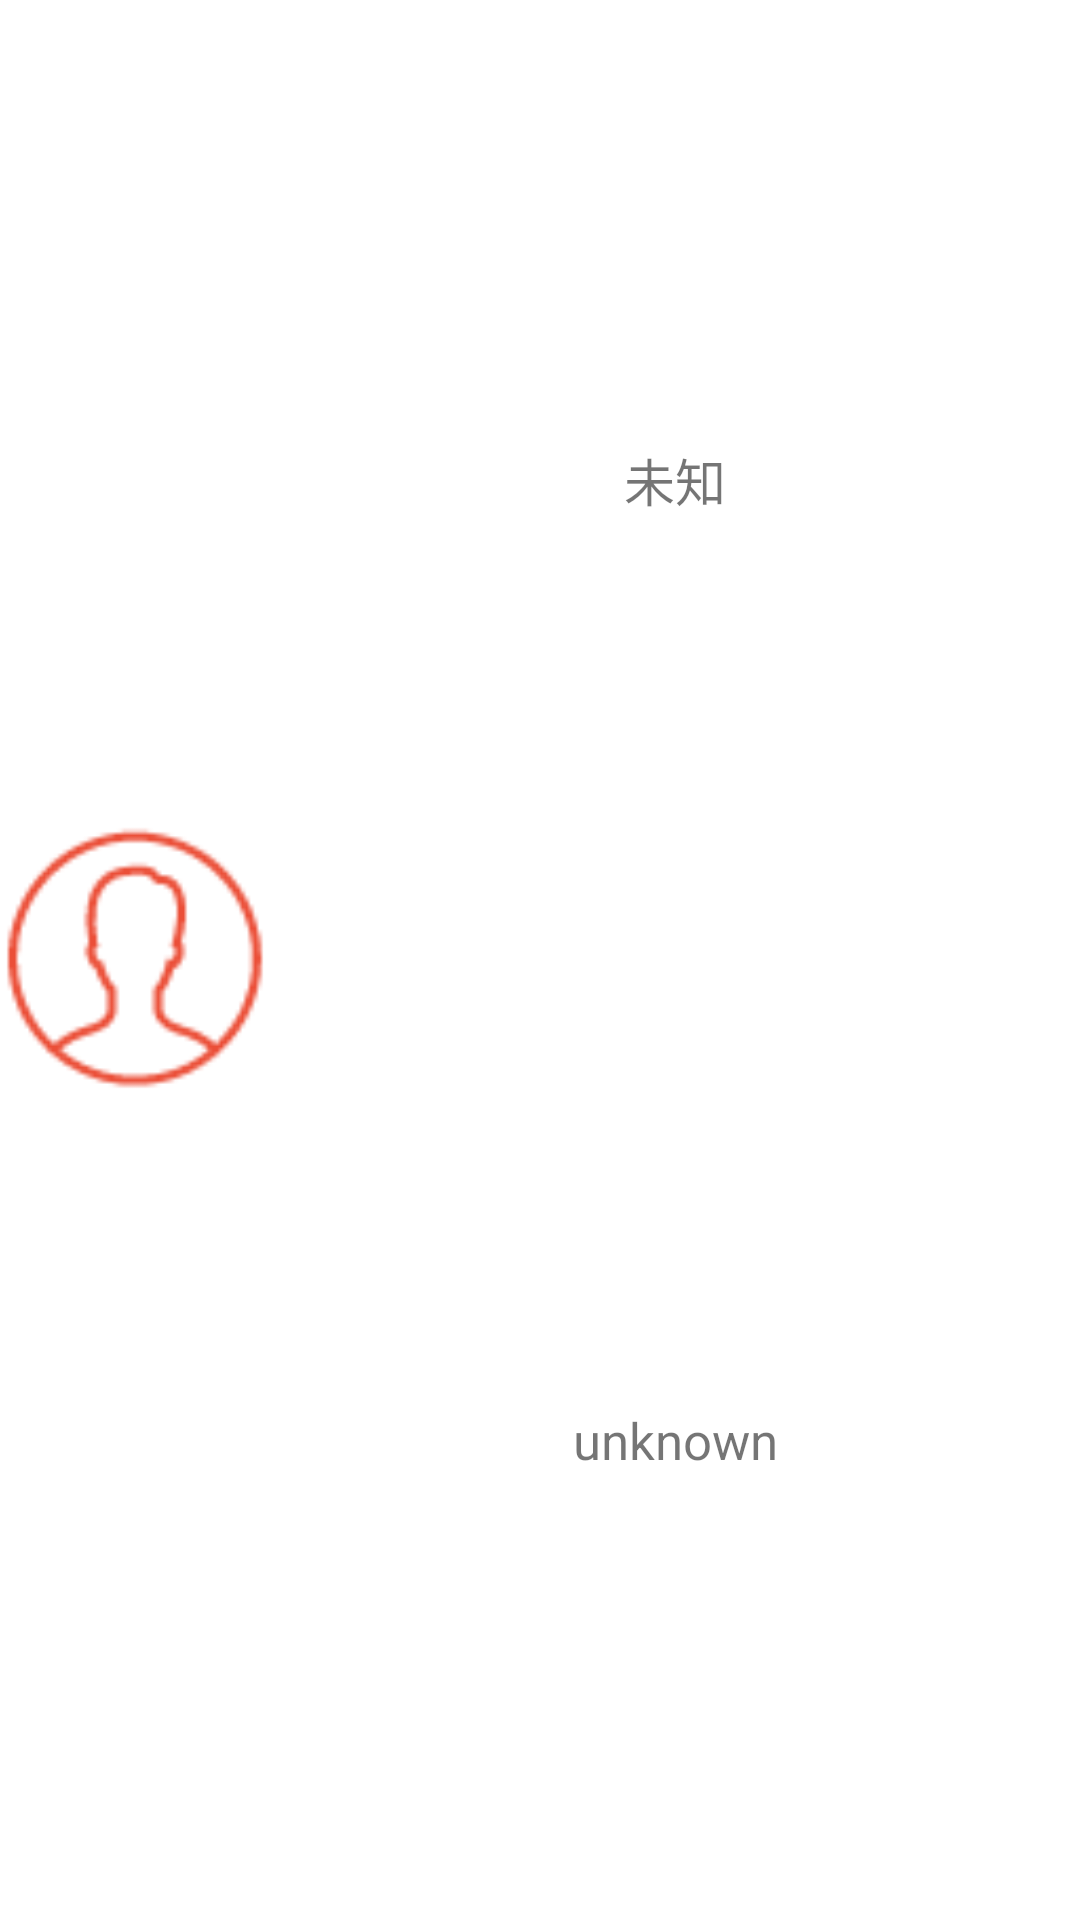

Screen size 1080w x 1920h. Icon name, then its center in pixels as (x,y):
user: (135,958)
